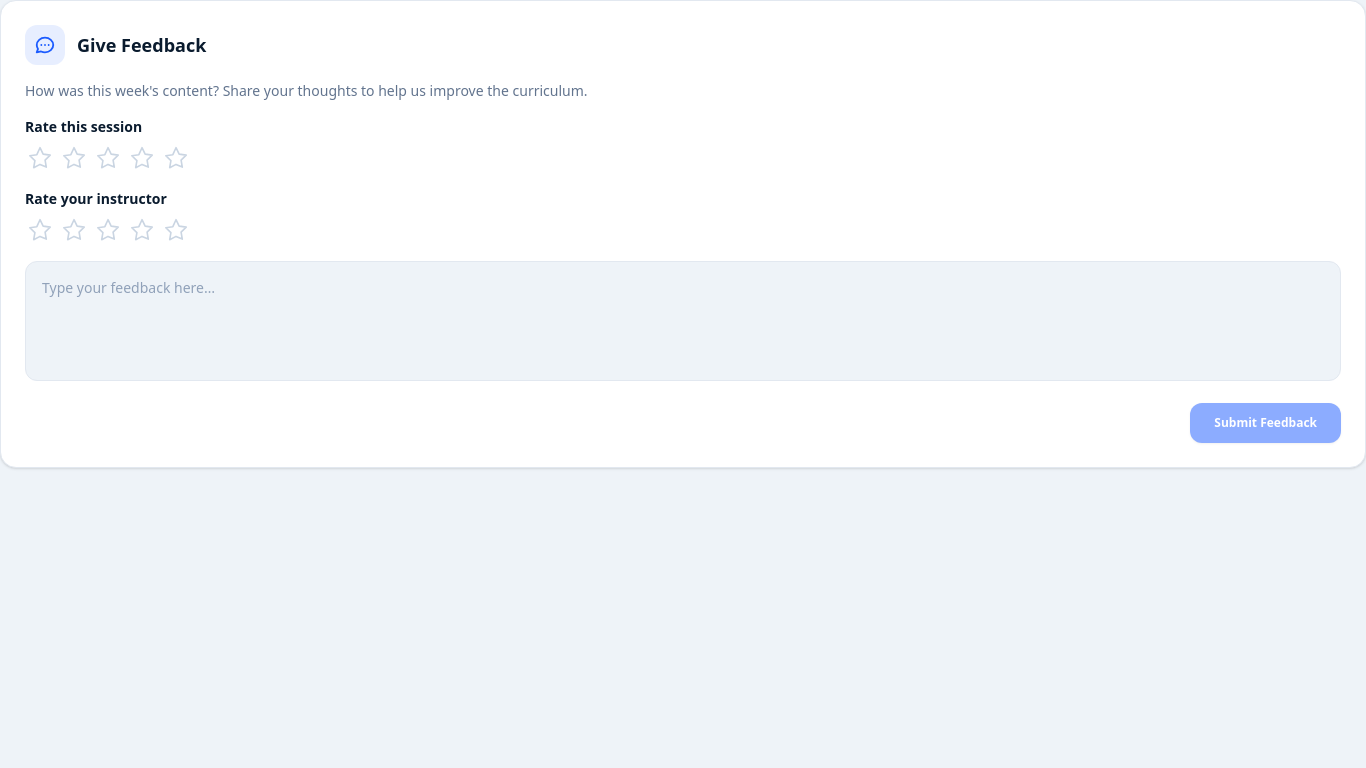
WeekFeedback (US5 — persisted) › renders an action error as an alert
This screenshot has width=1366, height=768.
What coordinates should you click on to do the following:
click the radio button named "1 stars" below "Rate this session"
I would click on:
 (40, 158)
Its box is [25,143,55,173].
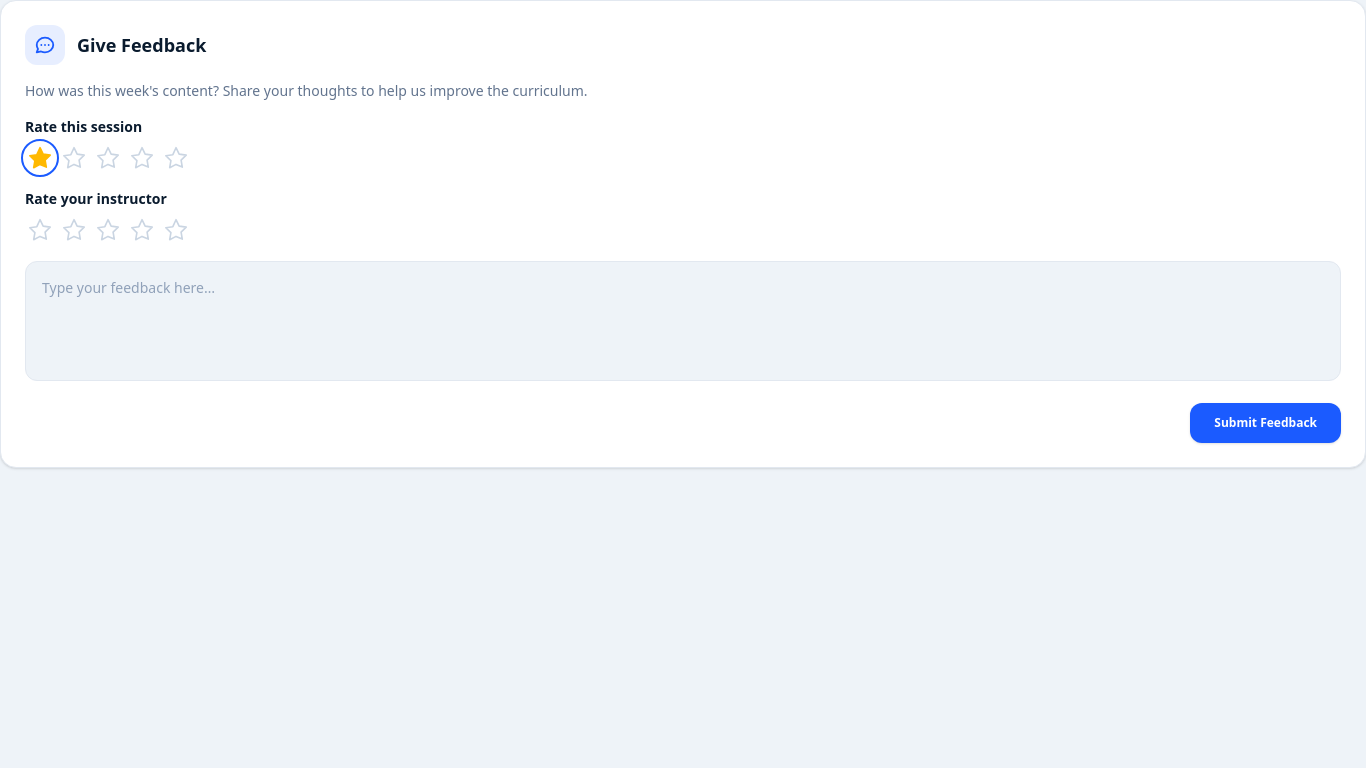
What coordinates should you click on to do the following:
click the button "Submit Feedback"
I would click on:
 (1266, 423)
Its box is [1190,403,1341,443].
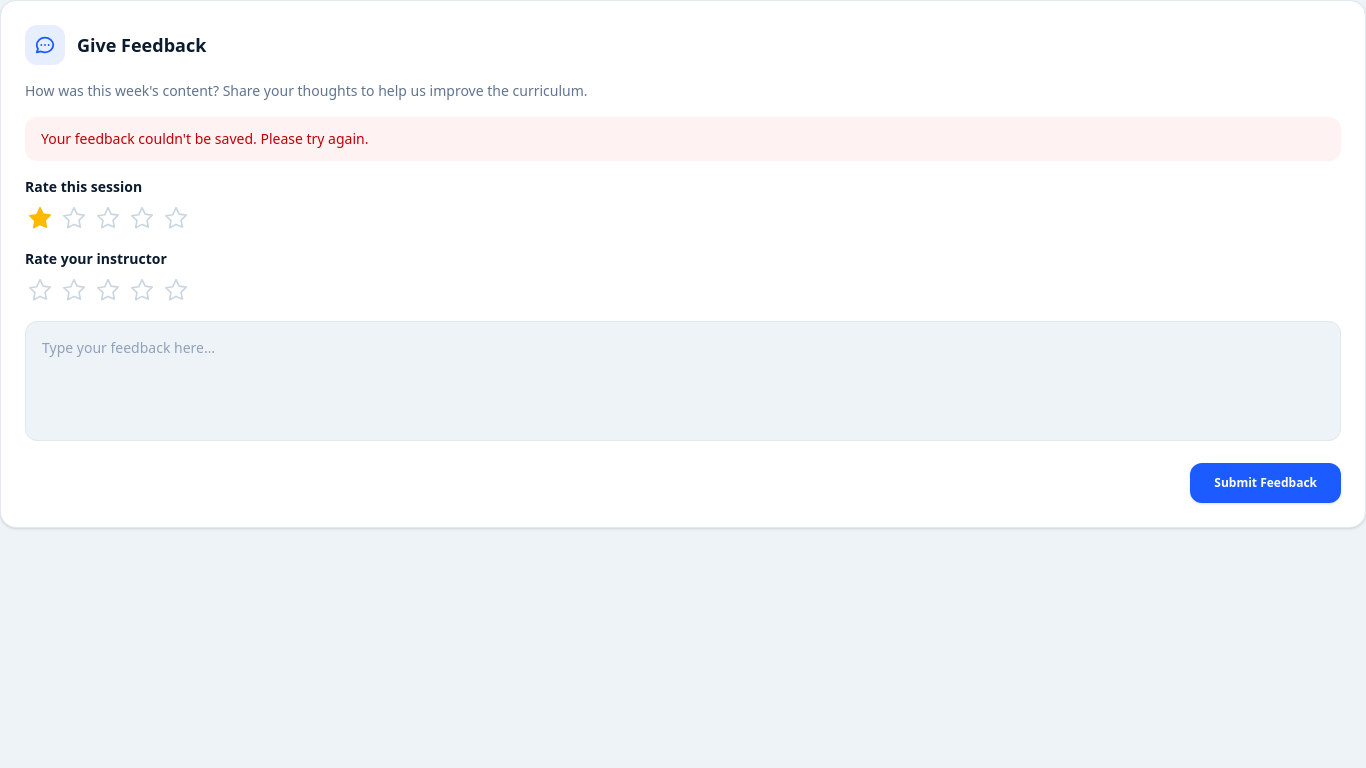
Expected: the message reads "Your feedback couldn't be saved. Please try again.", [41,129,368,148]
